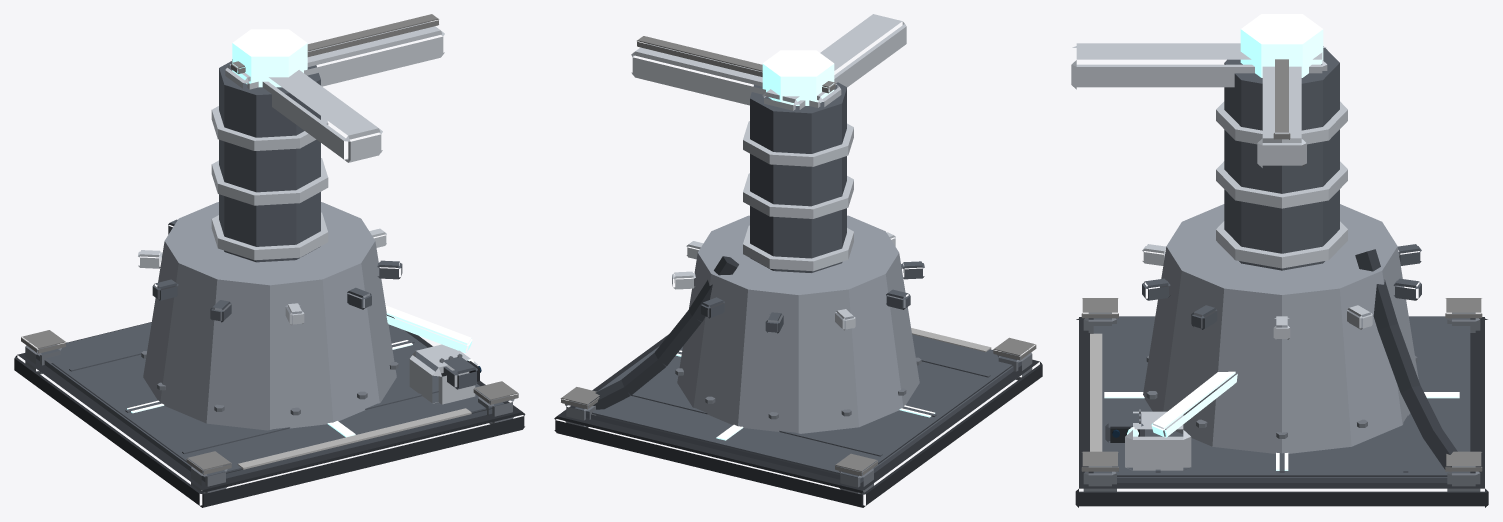
File: mex.glb
3 views of the same model, side by side, from view 1: azimuth 30°, elevation 25°; view 2: azimuth 150°, elevation 25°; view 3: azimuth 270°, elevation 25° (orthographic). The views are drawn at different scales.
Visible parts, largest first — view 1: body, spinner; view 2: body, spinner; view 3: body, spinner.
Boxes of the visible parts, x1=… form: body: x1=14, y1=61, x2=525, y2=507; spinner: x1=225, y1=14, x2=444, y2=162; body: x1=554, y1=82, x2=1042, y2=507; spinner: x1=631, y1=14, x2=906, y2=110; body: x1=1075, y1=46, x2=1488, y2=507; spinner: x1=1071, y1=14, x2=1327, y2=167.
Size of the model in its own units: 48.48 by 50.4 by 48.48.
